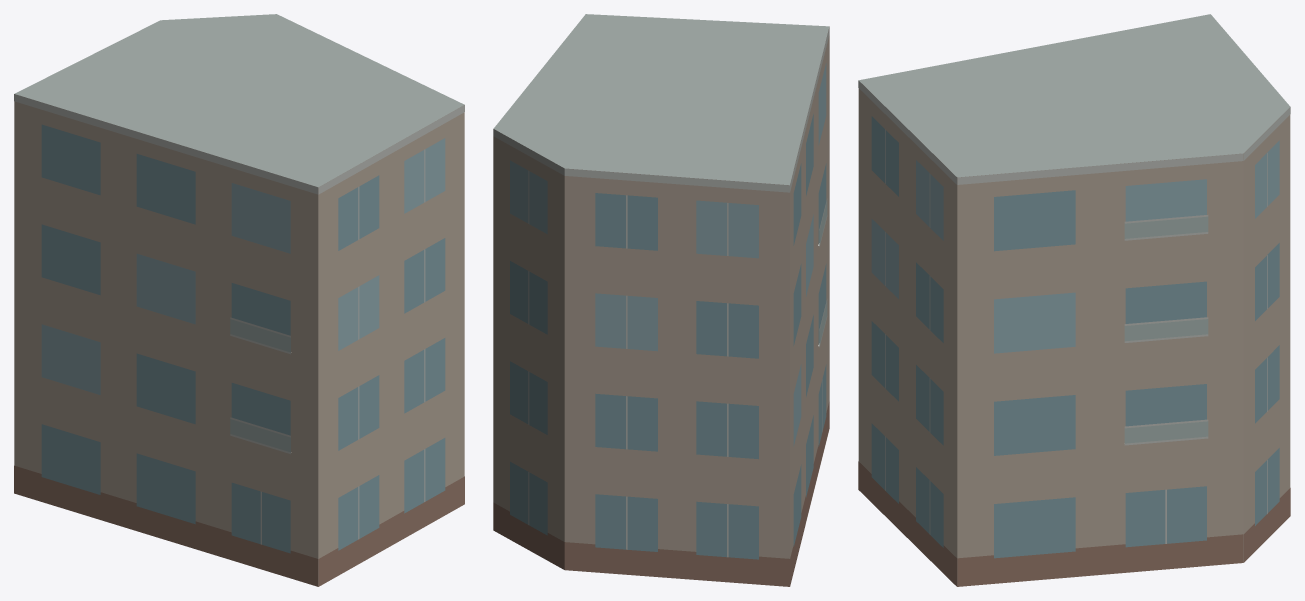
File: survey-upis-32828255.glb
The picture shows the model from 3 angles, left to right: view 1: azimuth 30°, elevation 25°; view 2: azimuth 150°, elevation 25°; view 3: azimuth 270°, elevation 25°; orthographic projection. The views are drawn at different scales.
Parts seen in each view (by area): view 1: survey-upis-32828255.tmp; view 2: survey-upis-32828255.tmp; view 3: survey-upis-32828255.tmp.
Part boxes in pixels (x1,y1,x2,y2): survey-upis-32828255.tmp: (14, 14, 464, 586); survey-upis-32828255.tmp: (493, 14, 829, 586); survey-upis-32828255.tmp: (858, 14, 1290, 586).
Size of the model in its own units: 11.31 by 13.2 by 12.63.
